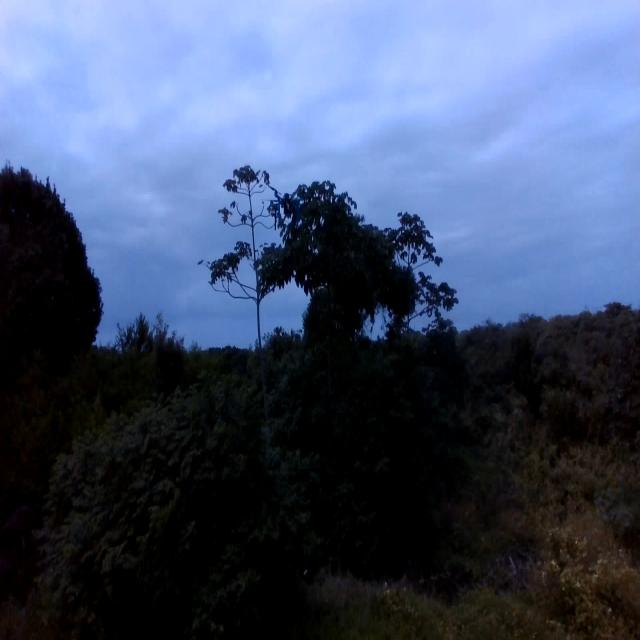-uav-: (267, 193, 306, 235)
